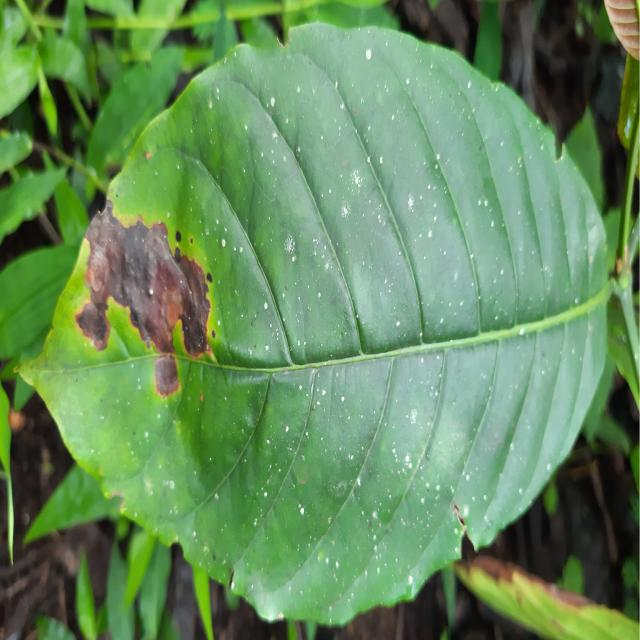Enfermedad-Mancha-de-hierro: (20, 25, 612, 624)
